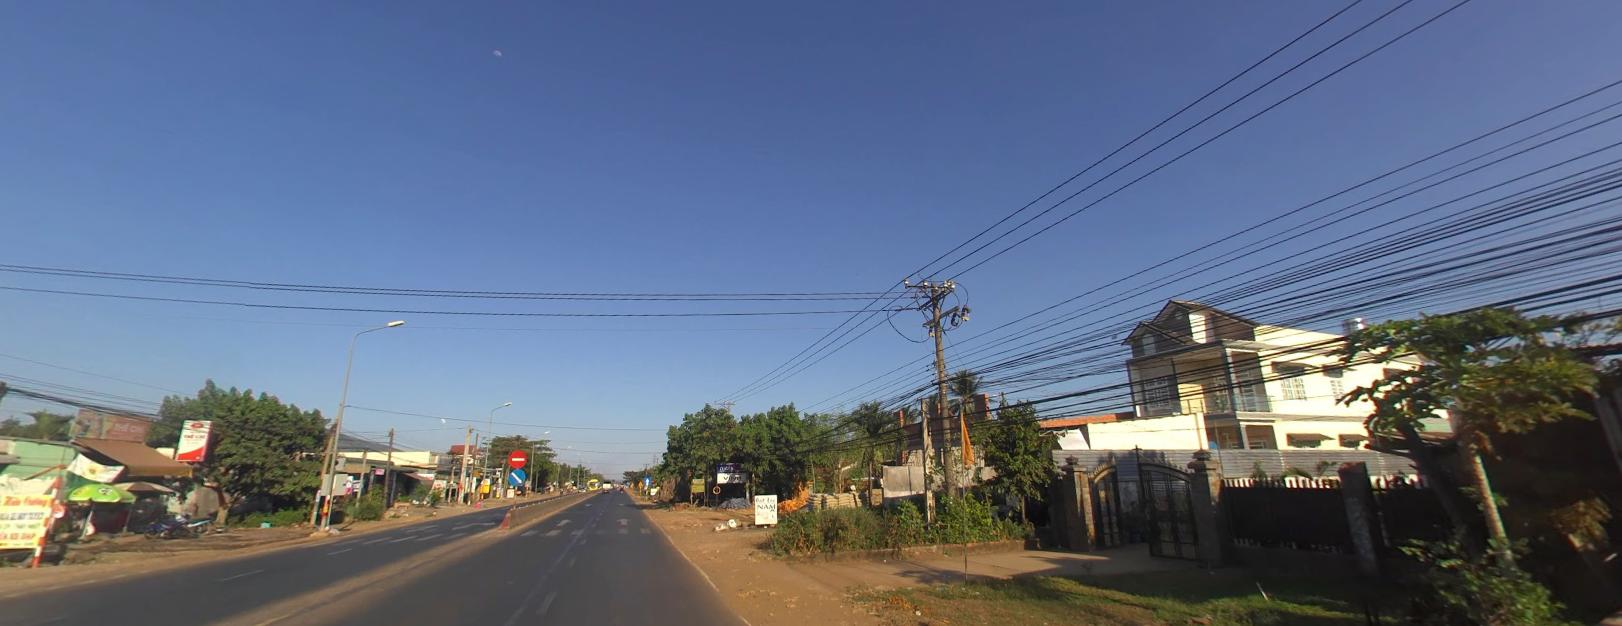Cam nguoc chieu: (508, 447, 527, 466)
Hieu lenh: (507, 467, 526, 484)
Nguy hiem: (637, 479, 643, 485), (628, 481, 634, 487)
